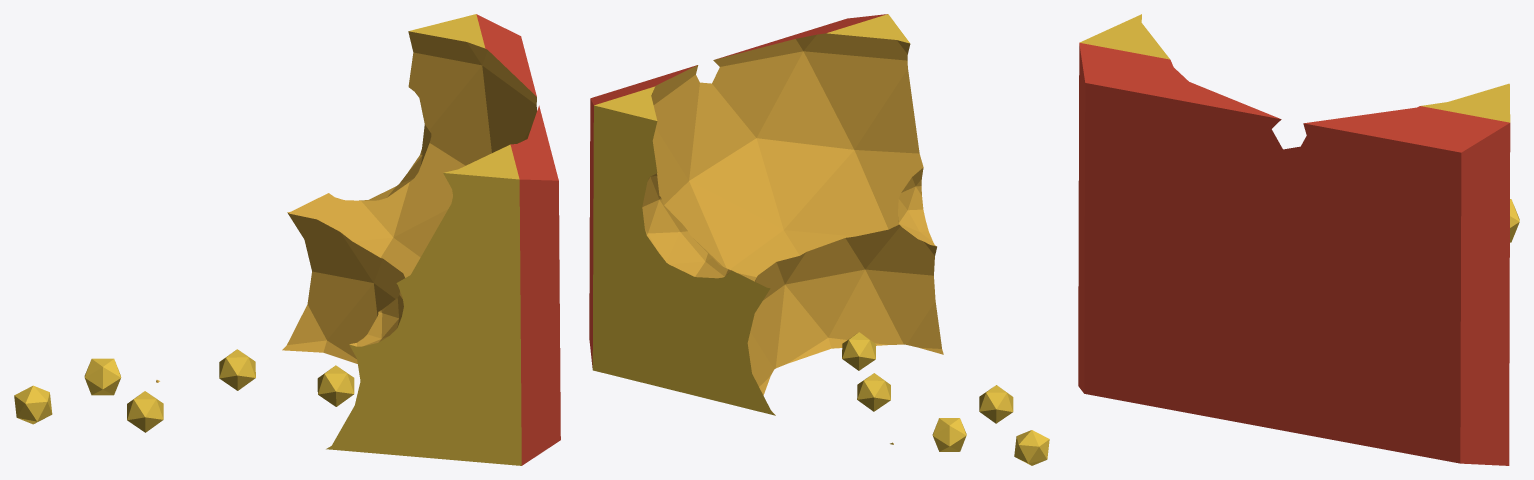
Rendered from Cheese (with 5 bites).fbx.
3 renders of one model, left to right at view 1: azimuth 30°, elevation 25°; view 2: azimuth 150°, elevation 25°; view 3: azimuth 270°, elevation 25°, orthographic. The views are drawn at different scales.
Parts seen in each view (by area): view 1: Cheese with 5 bites, Cheese crumb.001, Cheese crumb, Cheese crumb.004, Cheese crumb.003, Cheese crumb.002; view 2: Cheese with 5 bites, Cheese crumb, Cheese crumb.001, Cheese crumb.002, Cheese crumb.004, Cheese crumb.003; view 3: Cheese with 5 bites.
Boxes of the visible parts, box(x1,y1,x2,y2) form: Cheese with 5 bites: box(156, 14, 560, 465); Cheese crumb.001: box(84, 358, 121, 395); Cheese crumb: box(14, 385, 52, 424); Cheese crumb.004: box(317, 365, 354, 406); Cheese crumb.003: box(219, 349, 255, 390); Cheese crumb.002: box(127, 391, 163, 432); Cheese with 5 bites: box(589, 14, 943, 444); Cheese crumb: box(1014, 430, 1049, 465); Cheese crumb.001: box(932, 418, 966, 451); Cheese crumb.002: box(979, 385, 1013, 423); Cheese crumb.004: box(842, 332, 875, 370); Cheese crumb.003: box(857, 373, 890, 411); Cheese with 5 bites: box(1078, 14, 1510, 465).
Size of the model in its own units: 365 by 201 by 234.
4 materials, 4 textured.
